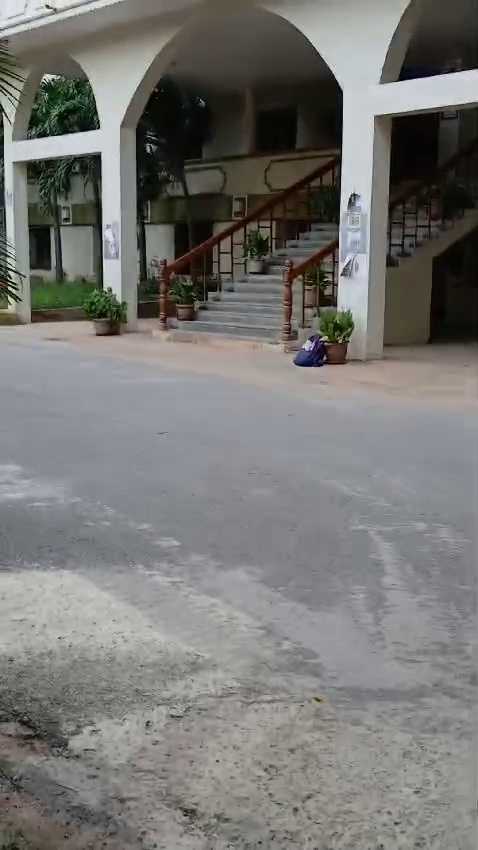bag: (287, 317, 329, 368)
